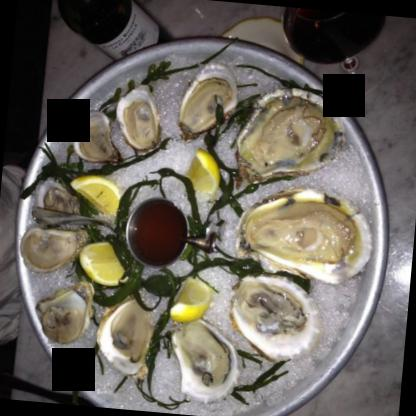oyster: (234, 183, 378, 287), (234, 85, 348, 193), (231, 272, 318, 360), (174, 60, 240, 150), (172, 315, 240, 402), (92, 294, 158, 374), (34, 276, 96, 347), (20, 221, 84, 282), (111, 82, 161, 150), (70, 108, 118, 162)
